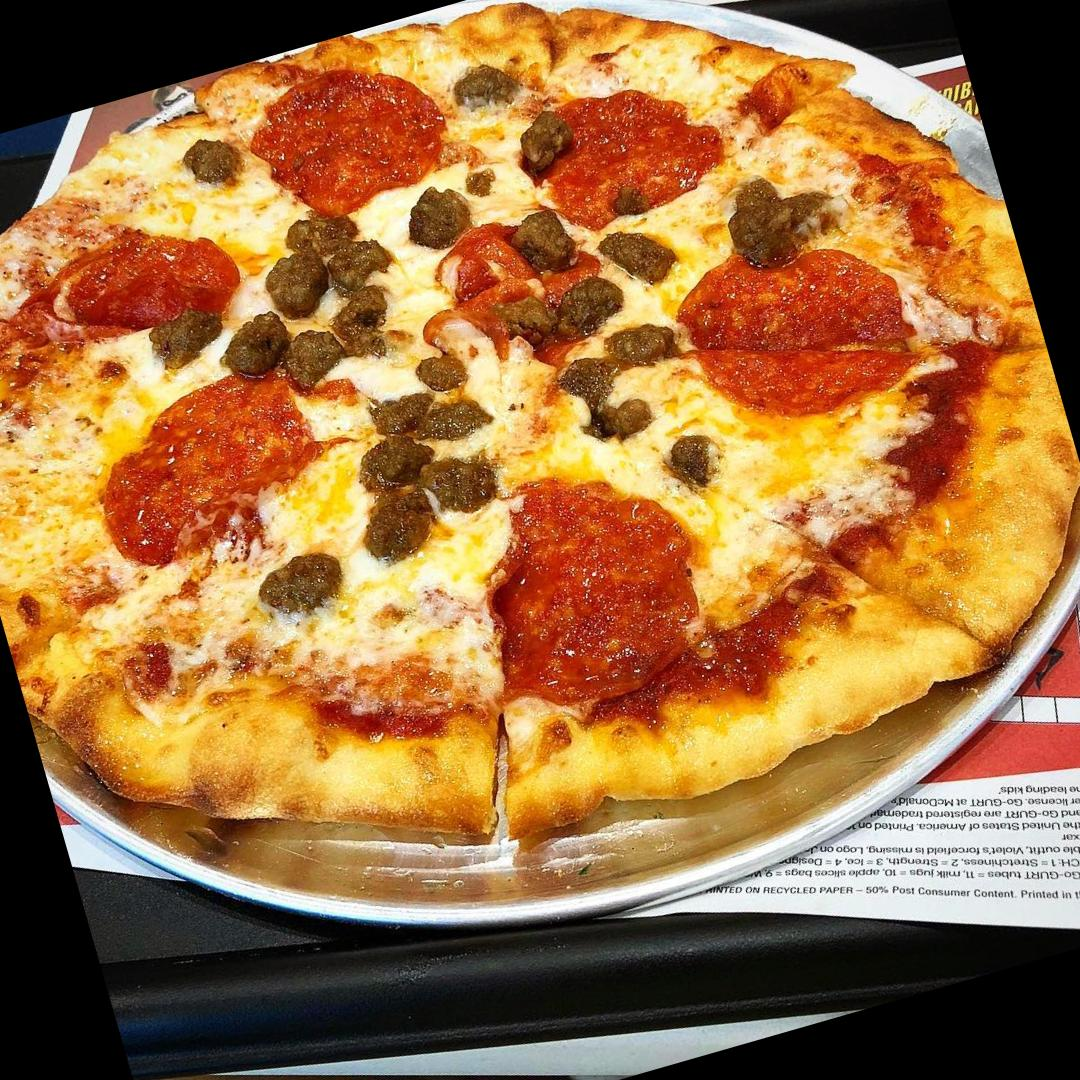Pizza: (0, 0, 1080, 963)
Tomatoes: (446, 456, 720, 721), (669, 219, 928, 443), (80, 360, 334, 565), (408, 198, 622, 378), (240, 48, 461, 218), (528, 68, 732, 232), (38, 210, 247, 356)
